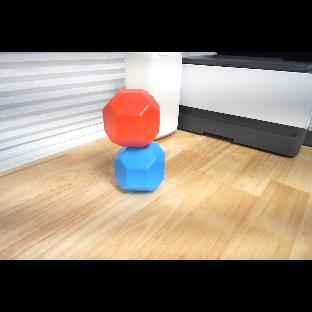V5_BLUE: (114, 141, 165, 191), (115, 149, 166, 192)
V5_RED: (102, 88, 165, 148), (102, 88, 159, 147)
pieces: (99, 87, 170, 196)
